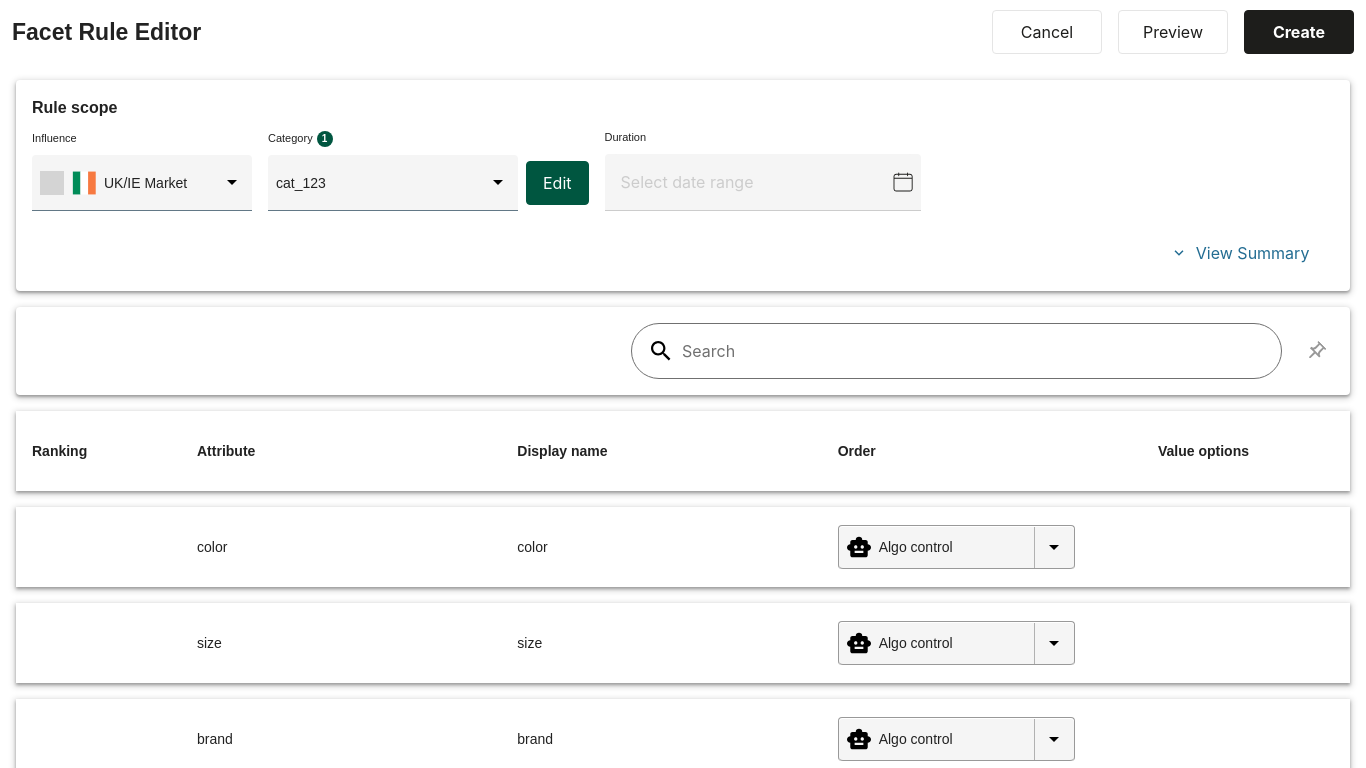
Scenario: FacetsList › should filter facets
Expected: the element with test id "Row showing size as algoControl" is shown, [16, 603, 1350, 683]
Type "size" into the search field with placeholder "Search" at coordinates (956, 351), box [631, 323, 1282, 379]
Then press Enter
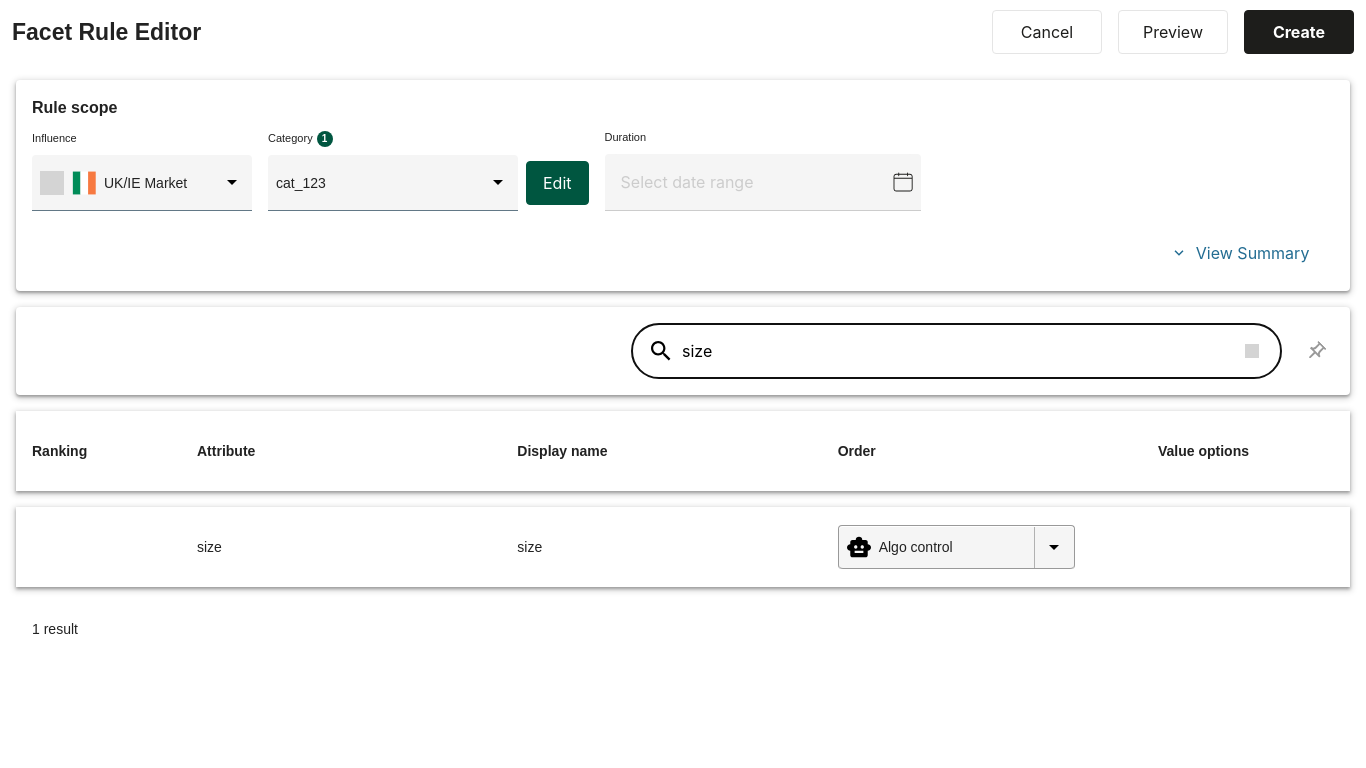
Expected: the element with test id "Row showing size as algoControl" is shown, [16, 507, 1350, 587]
Expected: the text "1 result" is shown, [32, 619, 78, 639]
